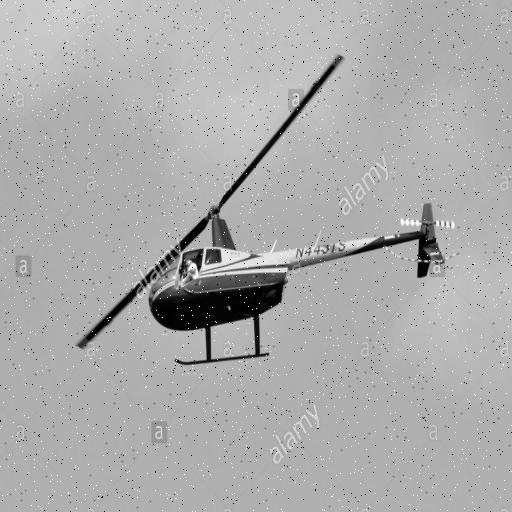helicopter: (83, 57, 457, 367)
